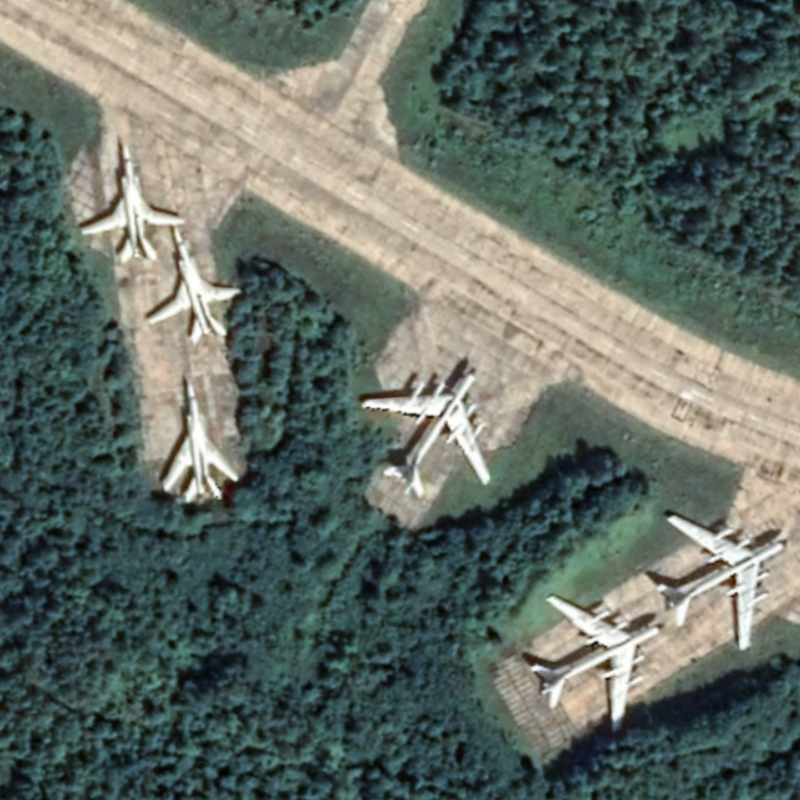A12: (76, 139, 188, 264), (142, 221, 244, 347), (158, 374, 243, 507)
A17: (652, 507, 794, 655), (526, 589, 666, 737), (358, 363, 496, 501)
